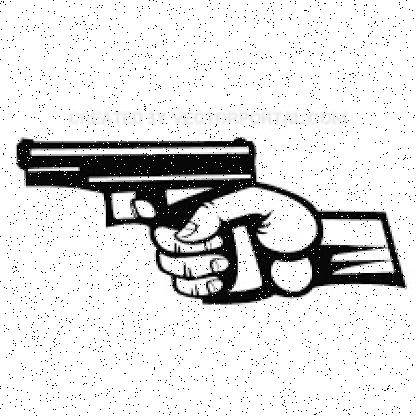pistol: (13, 134, 267, 316)
